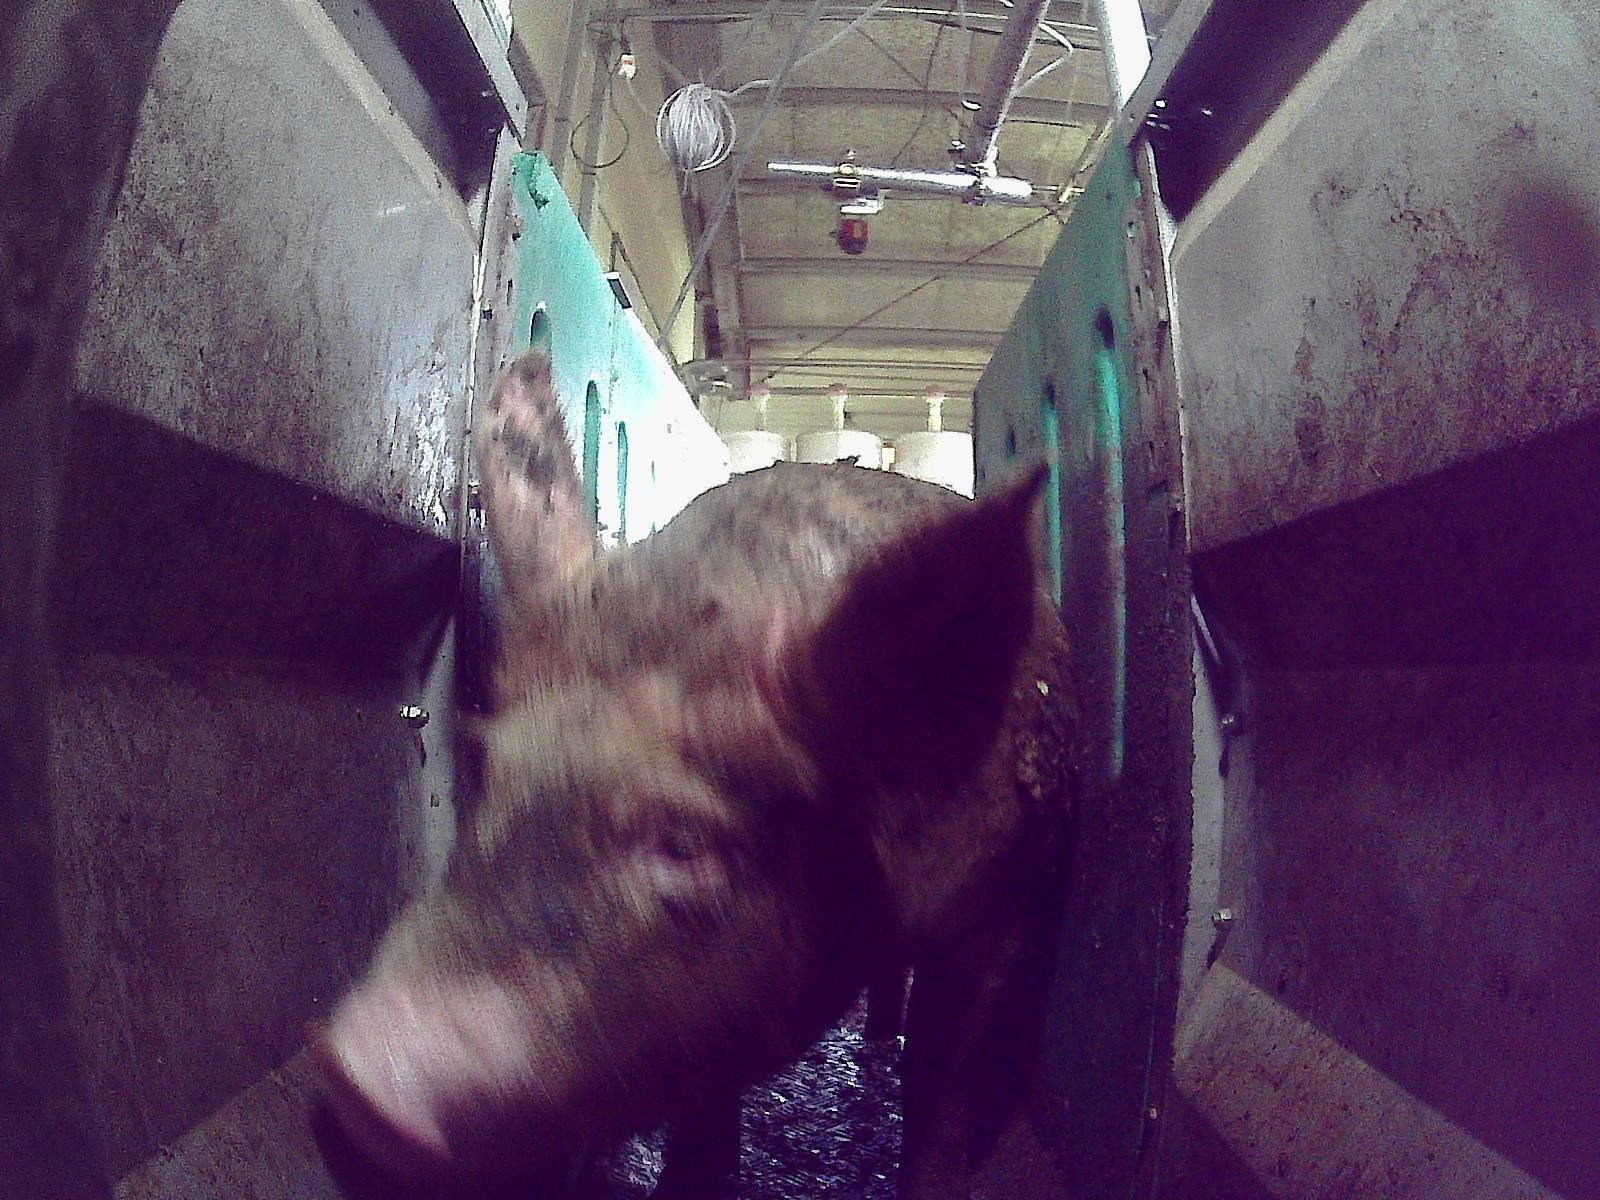Face: (310, 593, 870, 1199)
